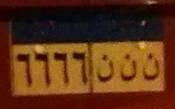6: (34, 50, 50, 88), (53, 50, 70, 85), (16, 50, 32, 87), (71, 51, 88, 85)
noon: (118, 52, 138, 81), (142, 53, 161, 83), (97, 53, 115, 84)
